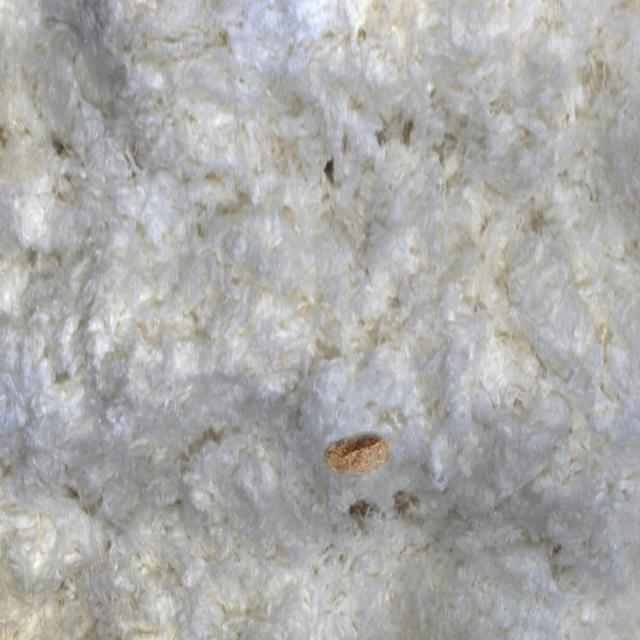dust: (295, 390, 410, 519)
